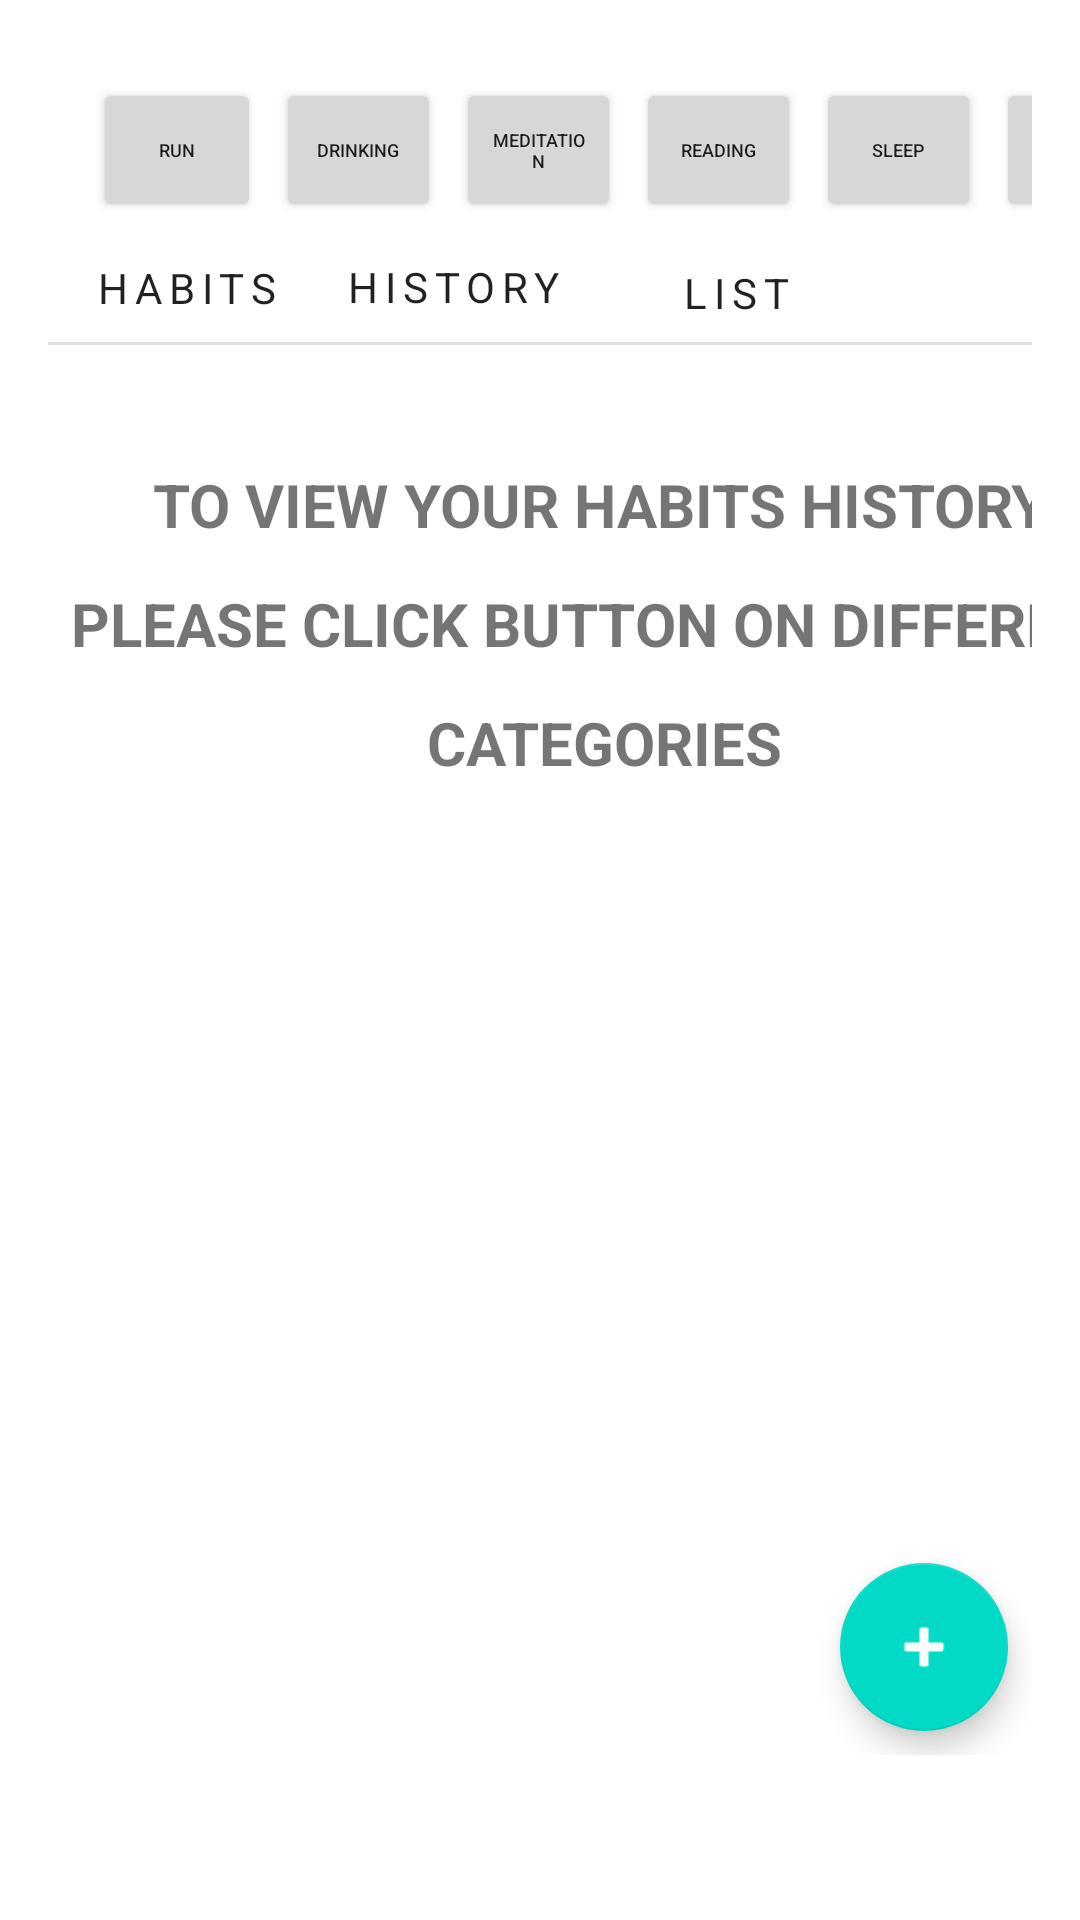

Icons on this 1080px×1920px Android screen, each with the point to tap as [x,y]:
Add new habit: [924,1647]
